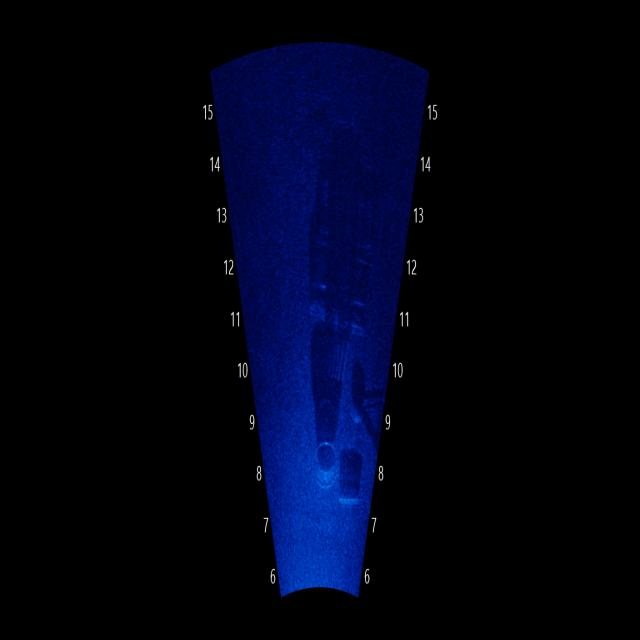circle: (308, 426, 340, 496)
square: (289, 132, 388, 348), (335, 442, 370, 529)
